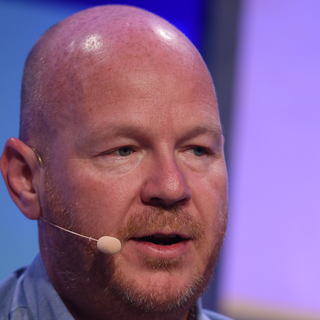eye: (173, 138, 221, 168), (92, 139, 146, 165)
